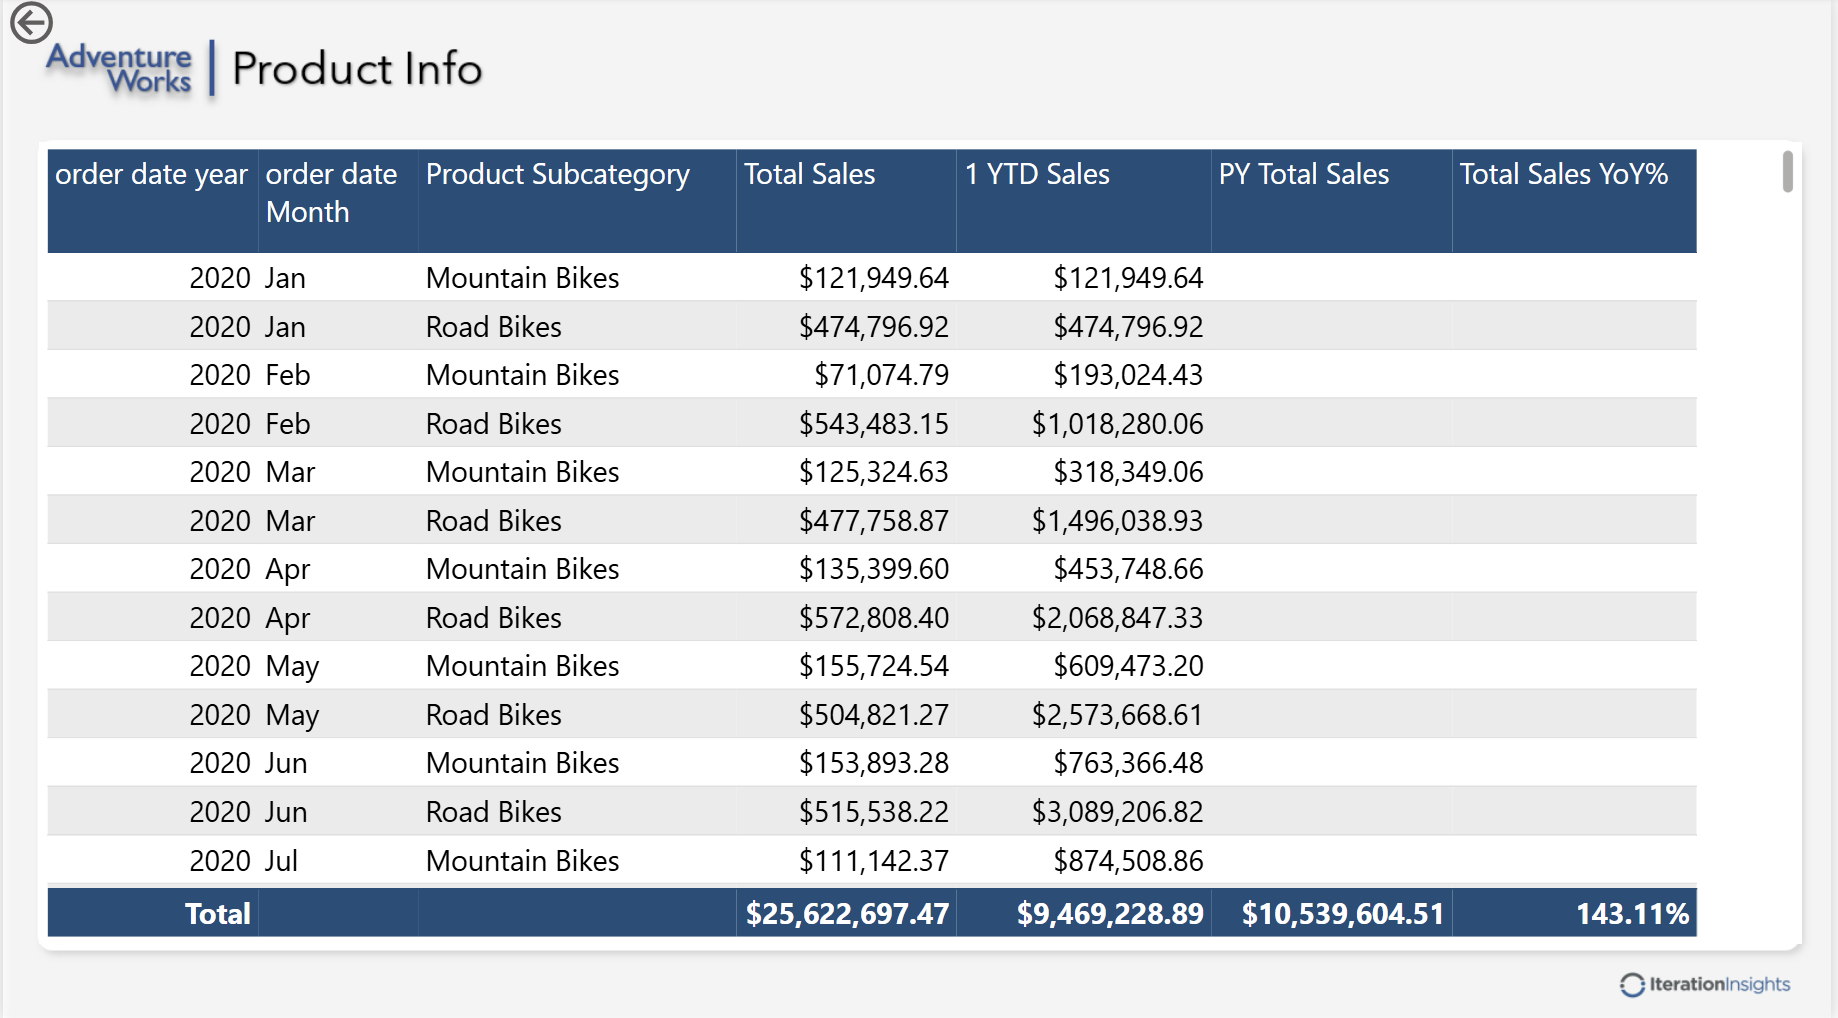

This screenshot's page, from the dashboard's own definition file:
{"tool":"powerbi","page":{"name":"Product Sales Details","canvas":[1280,720],"ordinal":2},"visuals":[{"type":"tableEx","fields":{"Values":["order date.order date year","order date.order date Month","Product.Product Hierarchy.Product Subcategory","Sales.Total Sales","Sales.1 YTD Sales","Sales.PY Total Sales","Sales.Total Sales YoY%"]},"box":[25.7,104.3,1234.3,561.4],"z":0},{"type":"actionButton","box":[0,0,100,40],"z":1000}]}

Visuals, with their boxes in screenshot pixels (x1, y1, x2, y2), scaled from the page's 1280x720 canvas onto the 1838x1018 screenshot:
tableEx - order date.order date year x order date.order date Month: crop(37, 147, 1809, 941)
actionButton: crop(0, 0, 144, 57)
